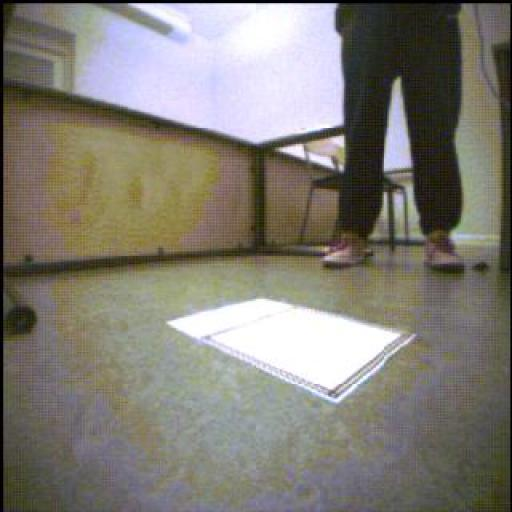Pad: (169, 300, 415, 404)
